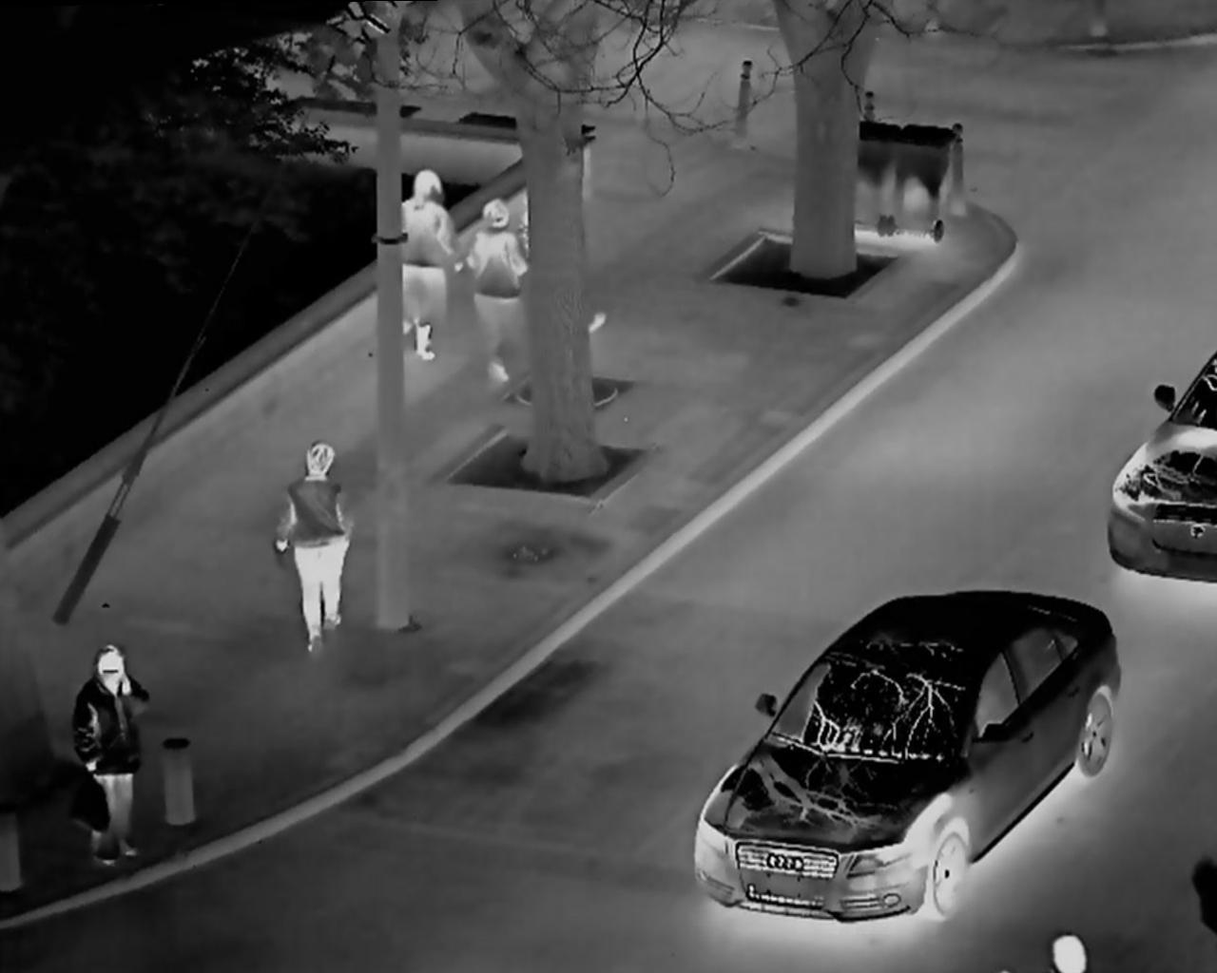person: (267, 432, 369, 651), (60, 632, 151, 867), (462, 190, 530, 389), (396, 157, 456, 363)
